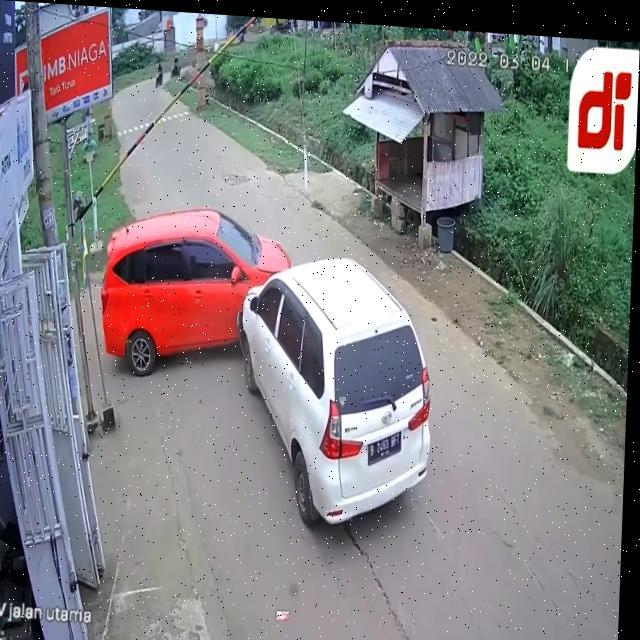multiple_accident: (86, 83, 482, 548)
